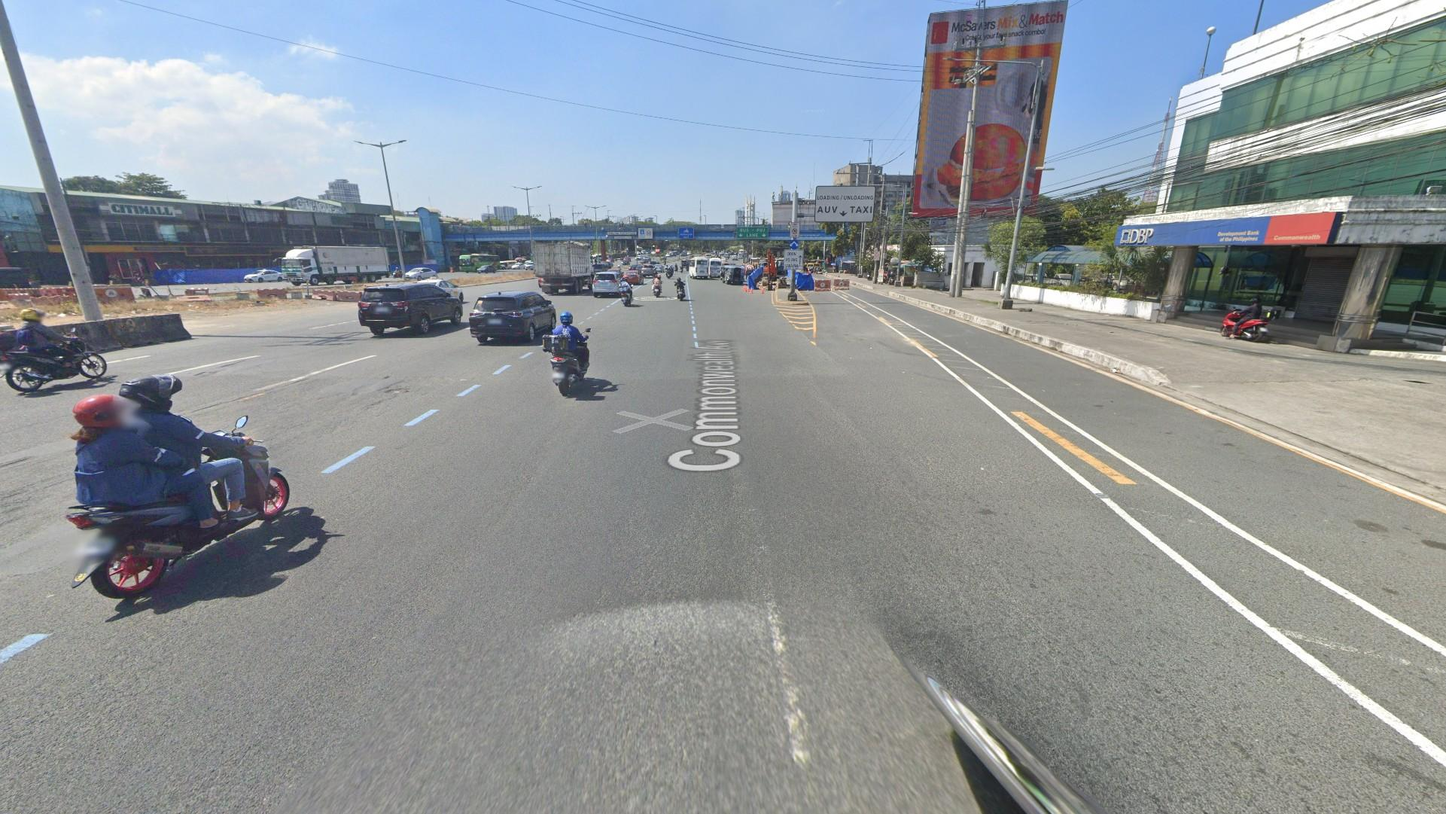pedestrian: (748, 267, 752, 280), (745, 268, 748, 280)
